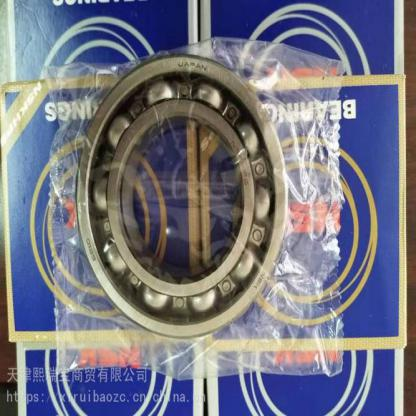FOD: (74, 54, 289, 340)
